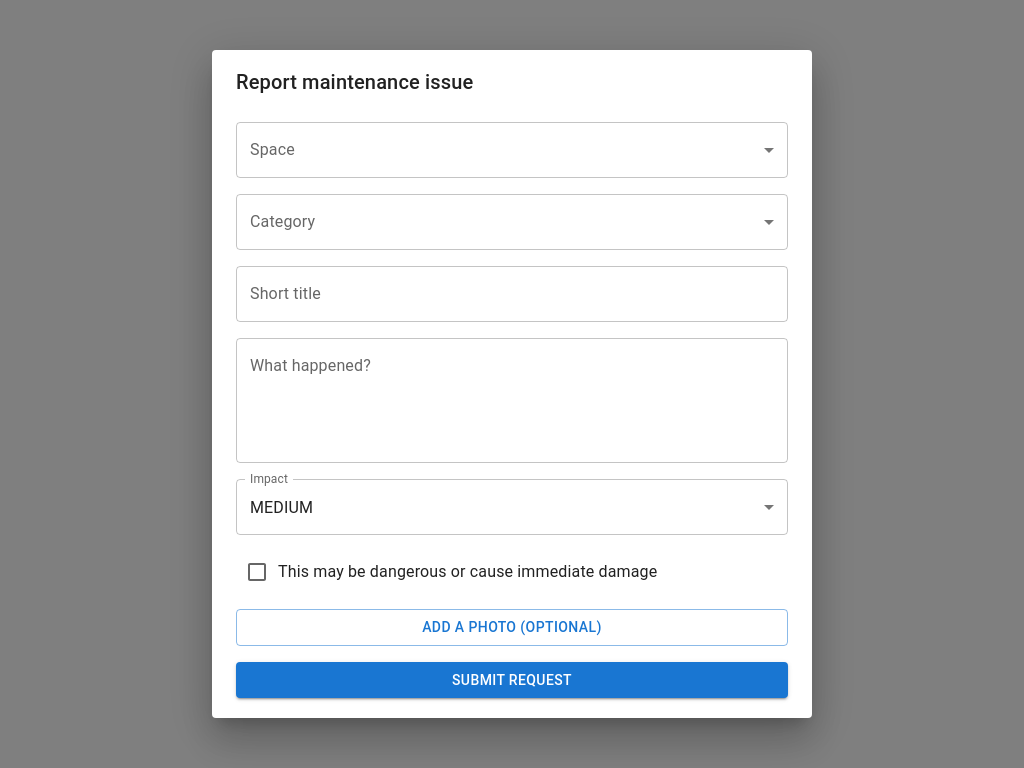
Test: blocks an empty report and shows each required field
Click the button "Submit request" at (512, 680), box [236, 662, 788, 698]
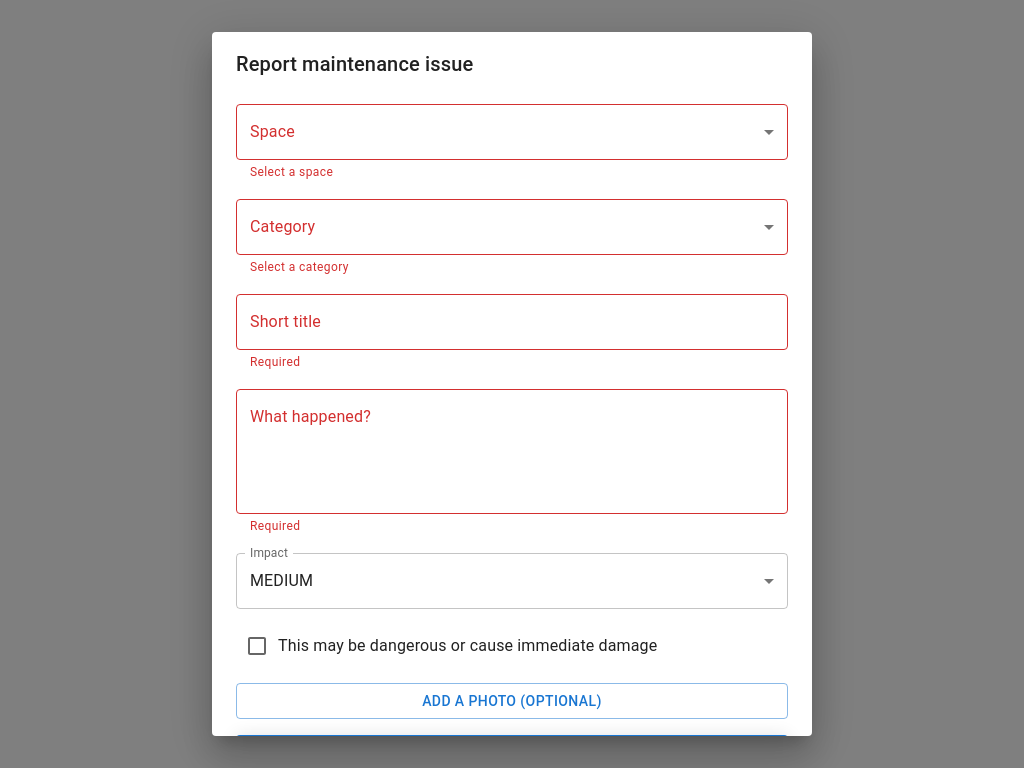
Check: the text "Select a space" is shown, box [250, 165, 333, 179]
Check: the text "Select a category" is shown, box [250, 260, 349, 274]
Check: the text "Required" is shown 2 times, box [250, 355, 300, 369]; [250, 519, 300, 533]
